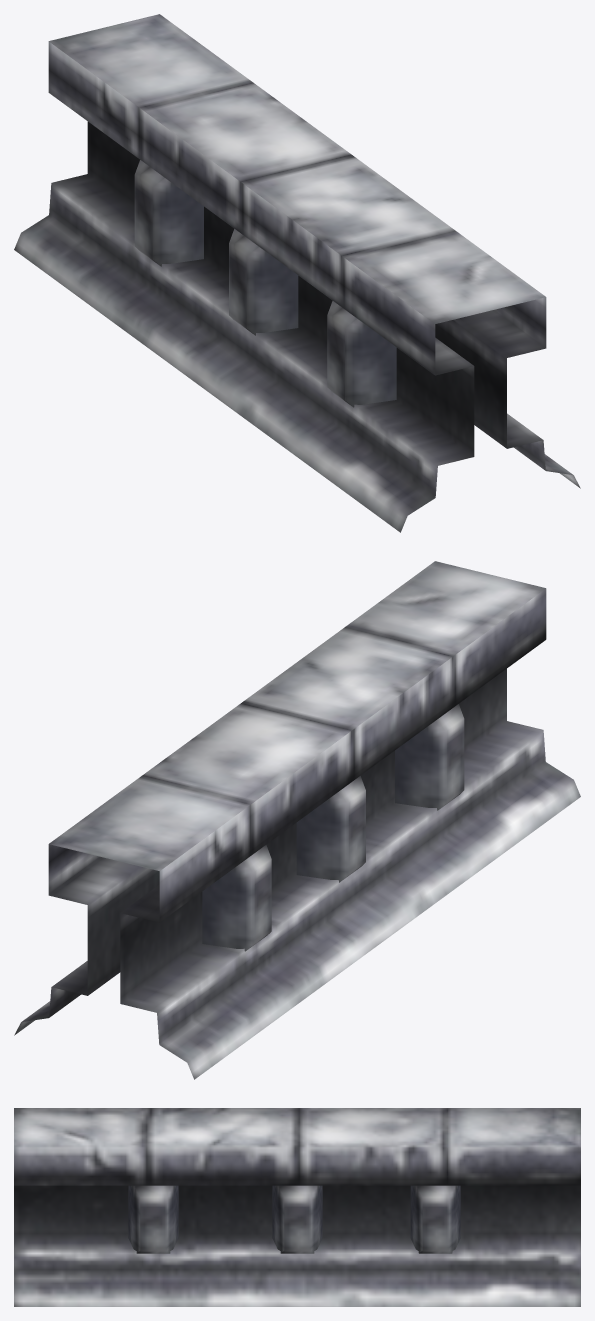
3 views of the same model, one above another, from view 1: azimuth 30°, elevation 25°; view 2: azimuth 150°, elevation 25°; view 3: azimuth 270°, elevation 25° (orthographic). The views are drawn at different scales.
Parts seen in each view (by area): view 1: Object119; view 2: Object119; view 3: Object119.
Boxes of the visible parts, left/top/right/bottom form: Object119: left=14, top=14, right=580, bottom=532; Object119: left=14, top=561, right=580, bottom=1079; Object119: left=14, top=1108, right=580, bottom=1306.
Size of the model in its own units: 148 by 157 by 549.
